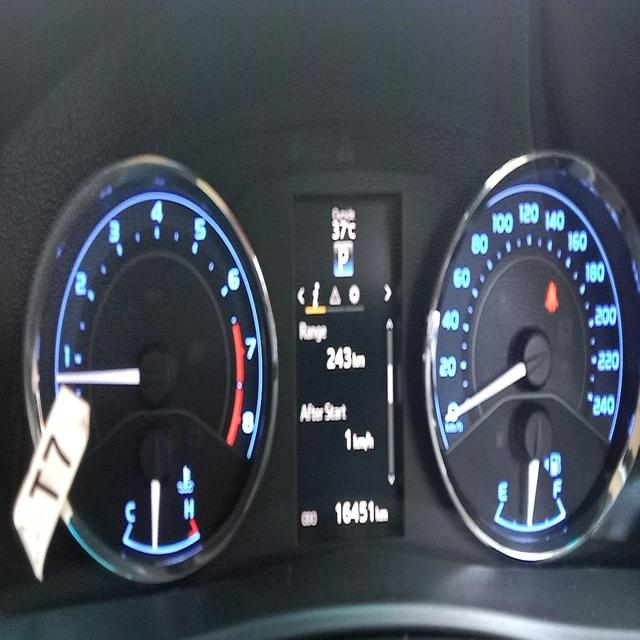odometer: (333, 498, 376, 526)
